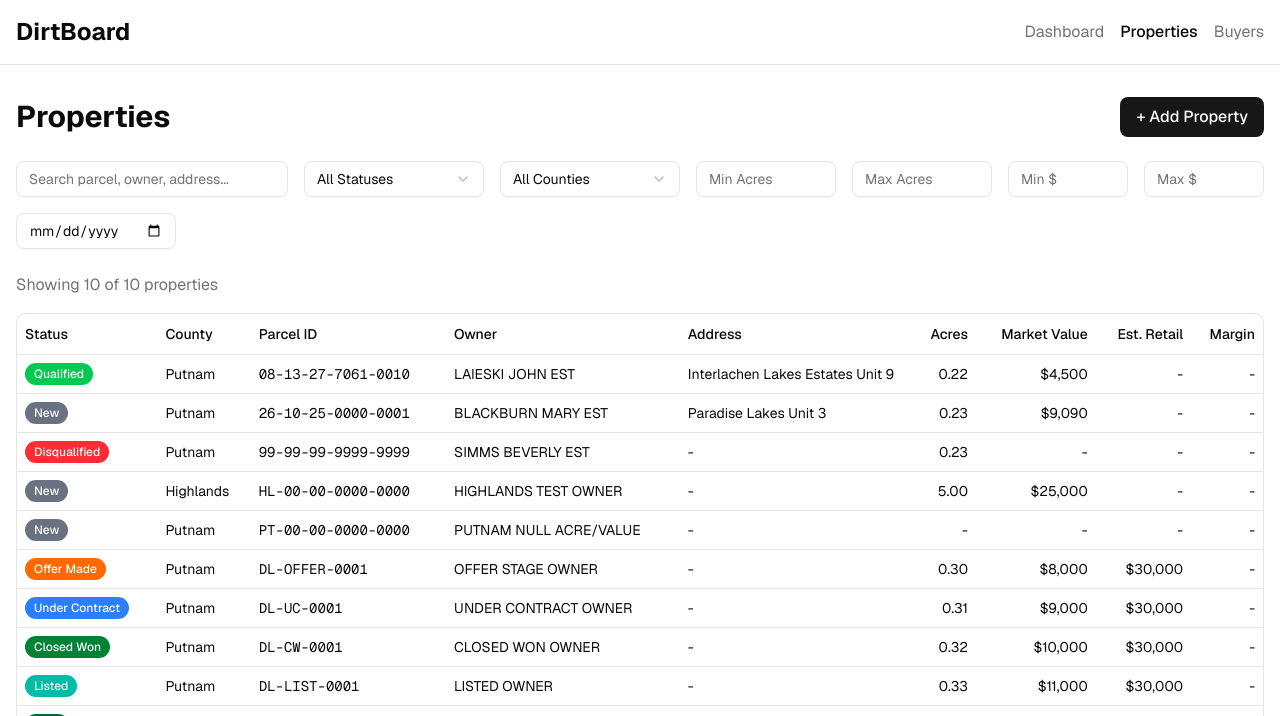
Properties Page › filters properties by minimum acreage
In the number field with placeholder "Min Acres": coordinates (766, 179) [696,161,836,197], type "1"
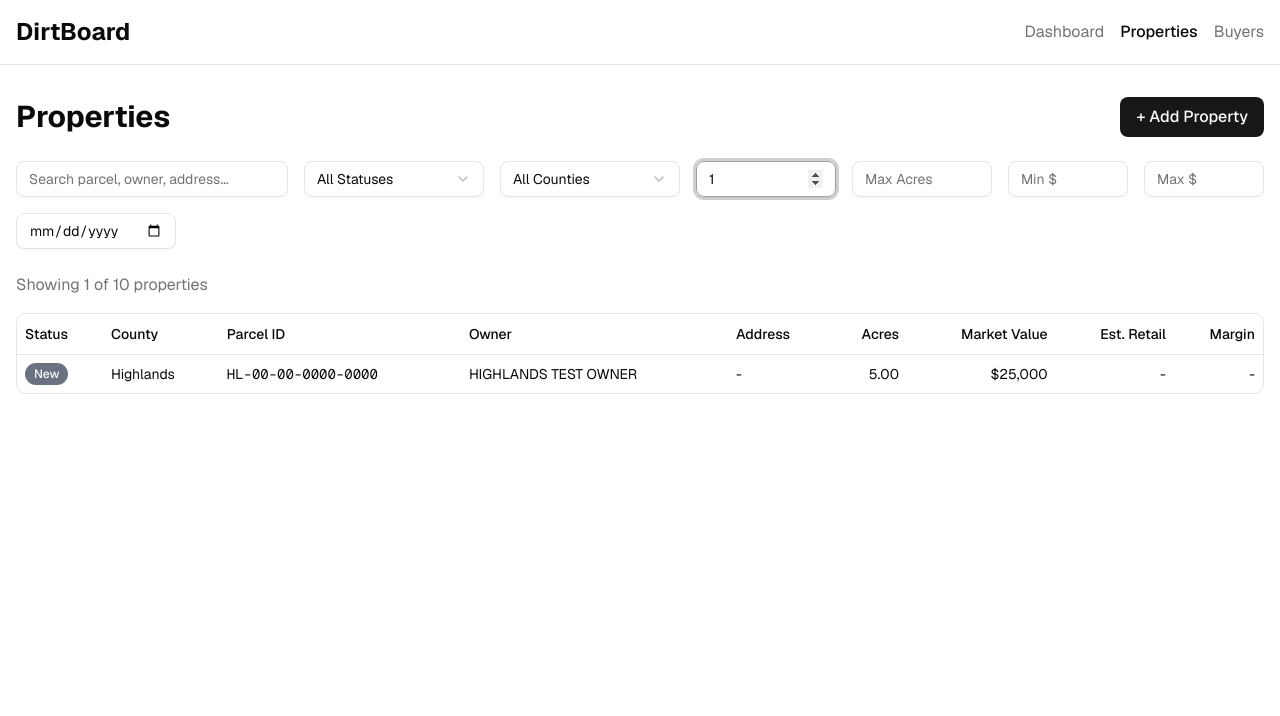
expect the text "HIGHLANDS TEST OWNER" is shown: met, box [461,354,728,392]
expect the text "LAIESKI JOHN EST" is gone: met
expect the text "BLACKBURN MARY EST" is gone: met
